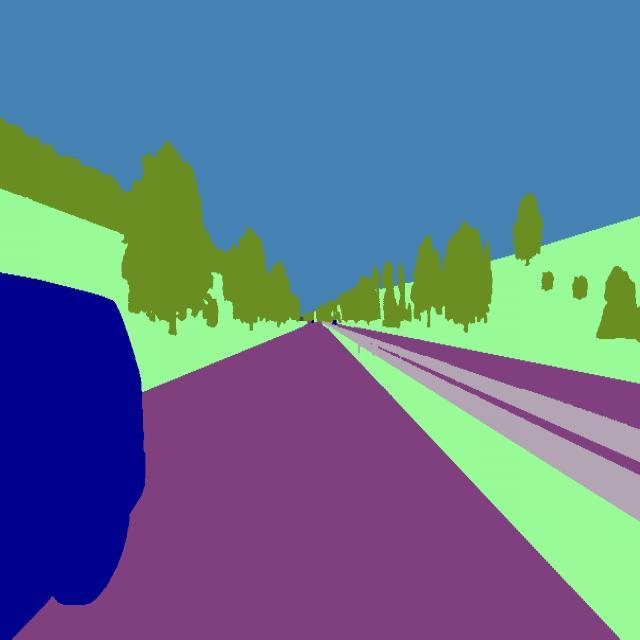unsafe: (0, 263, 148, 640)
